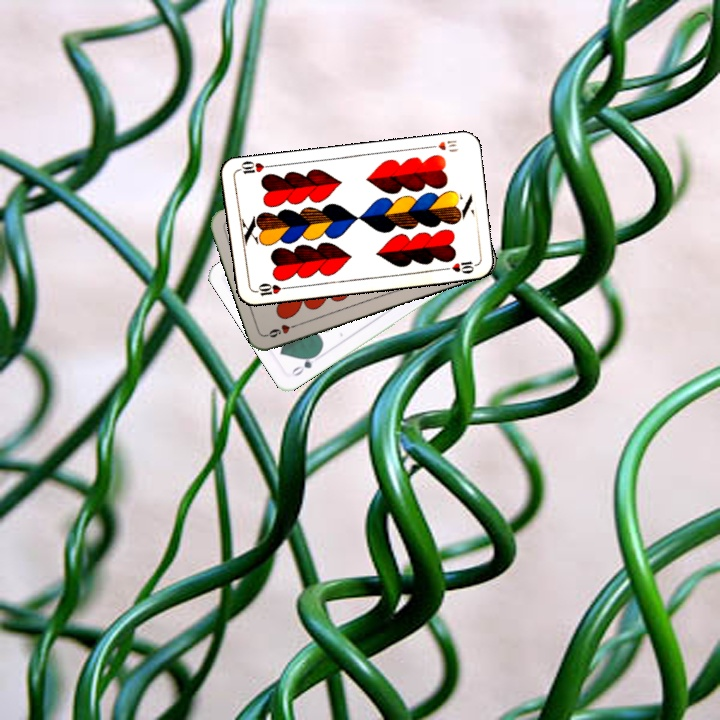GO: (288, 349, 322, 379)
H10: (250, 279, 290, 299), (423, 136, 460, 153)
H9: (263, 319, 302, 340)
